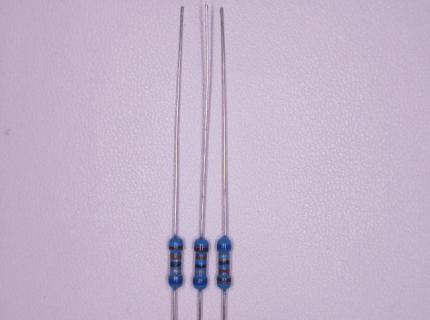Black band: (218, 261, 230, 266), (170, 262, 181, 267), (195, 264, 206, 268)
Blue band: (193, 279, 207, 285), (169, 278, 182, 284), (217, 244, 231, 249)
Brown band: (194, 247, 208, 252), (169, 245, 182, 250), (217, 286, 230, 291)
Grey band: (195, 270, 205, 274), (170, 270, 181, 273), (219, 255, 229, 258)
Orange band: (219, 269, 230, 275), (170, 254, 181, 259), (196, 255, 206, 259)
